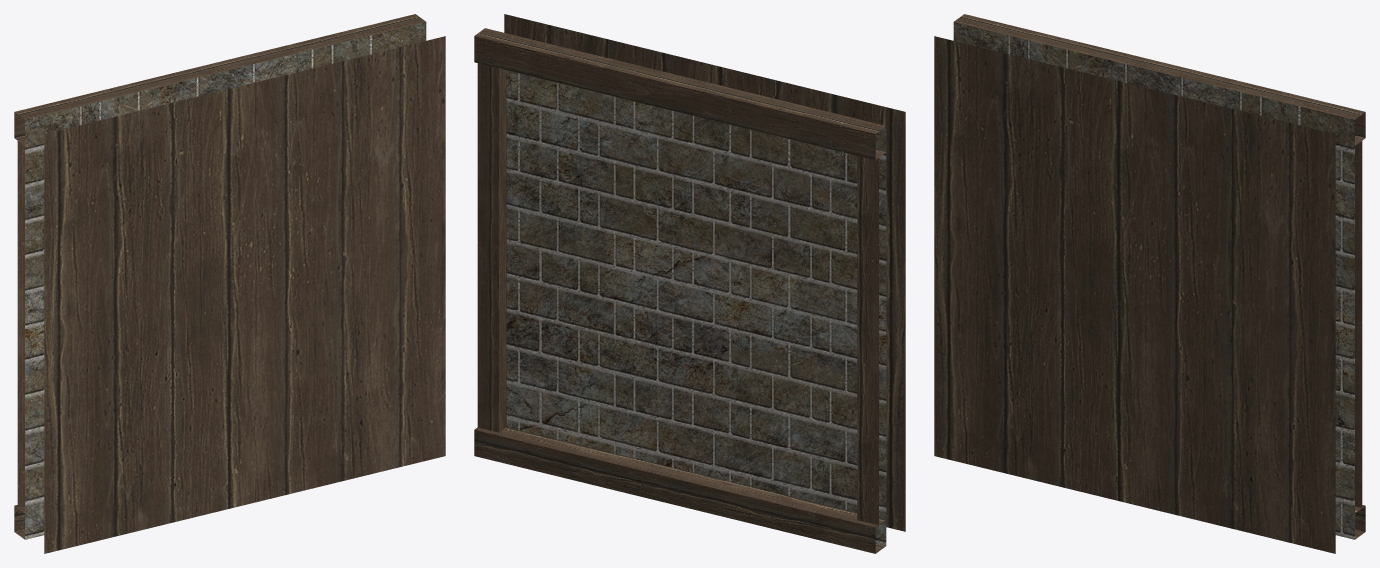
The model's file is ARC1010226.fbx.
The picture shows the model from 3 angles, left to right: view 1: azimuth 30°, elevation 25°; view 2: azimuth 150°, elevation 25°; view 3: azimuth 330°, elevation 25°; orthographic projection.
Parts seen in each view (by area): view 1: smARC1010226; view 2: smARC1010226; view 3: smARC1010226.
Part boxes in pixels (x1,y1,x2,y2): smARC1010226: (14,14,445,553); smARC1010226: (474,14,905,553); smARC1010226: (934,14,1365,553).
Bounding box in the file's own units: 268 × 268 × 34.9.
Materials: 1 (1 with a texture image).
